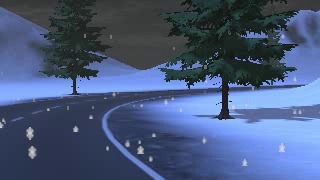Lane: (0, 87, 221, 179)
